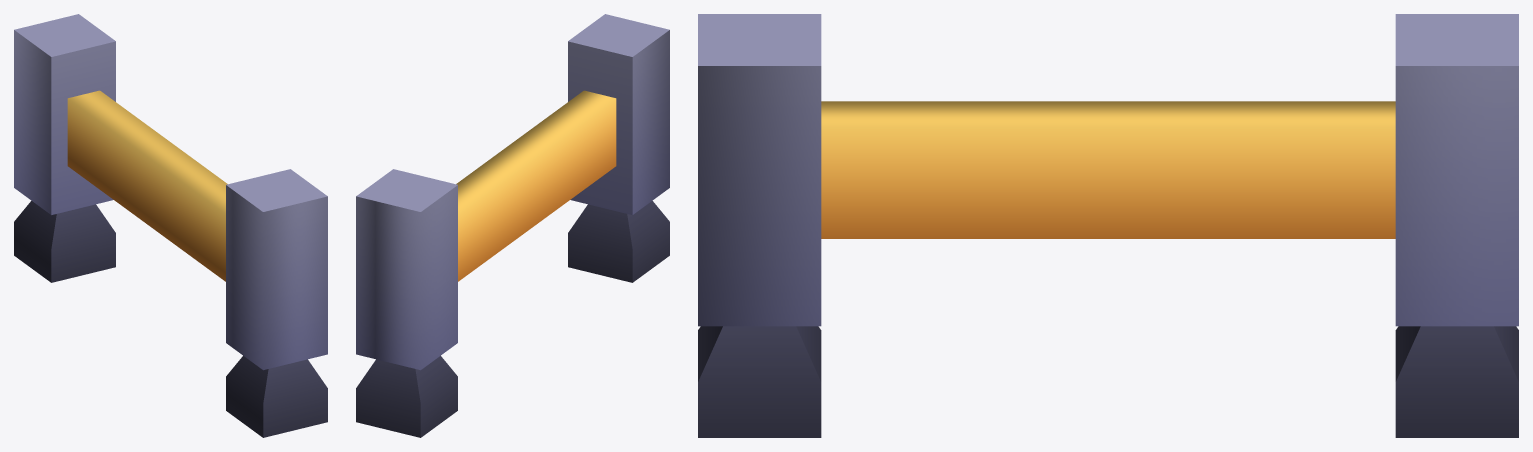
Rendered from structure-yellow-short.glb.
3 renders of one model, left to right at view 1: azimuth 30°, elevation 25°; view 2: azimuth 150°, elevation 25°; view 3: azimuth 270°, elevation 25°, orthographic. The views are drawn at different scales.
Visible parts, largest first — view 1: structure-yellow-short; view 2: structure-yellow-short; view 3: structure-yellow-short.
Boxes of the visible parts, x1,y1,x2,y2 form: structure-yellow-short: (14,14,327,437); structure-yellow-short: (356,14,669,437); structure-yellow-short: (698,14,1518,437).
Size of the model in its own units: 0.15 by 0.5 by 1.
